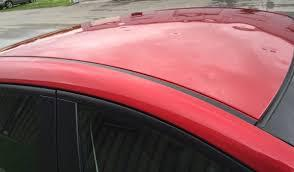roof-dent: (154, 7, 230, 121), (230, 9, 291, 122)
